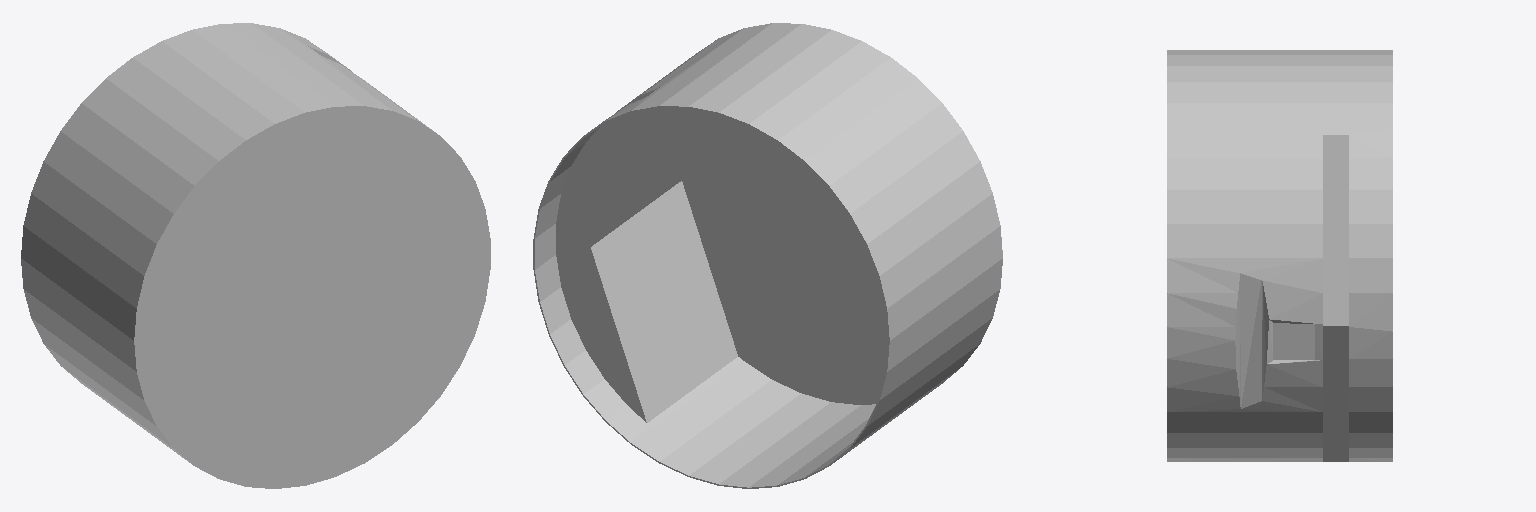
3 renders of one model, left to right at view 1: azimuth 30°, elevation 25°; view 2: azimuth 150°, elevation 25°; view 3: azimuth 270°, elevation 25°, orthographic.
Visible parts, largest first — view 1: <STL_BINARY>; view 2: <STL_BINARY>; view 3: <STL_BINARY>.
Part boxes in pixels (left/top/right/bottom): <STL_BINARY>: left=21, top=23, right=490, bottom=488; <STL_BINARY>: left=533, top=23, right=1002, bottom=488; <STL_BINARY>: left=1167, top=50, right=1392, bottom=461.
Bounding box in the file's own units: 0.5 × 0.4995 × 0.275.